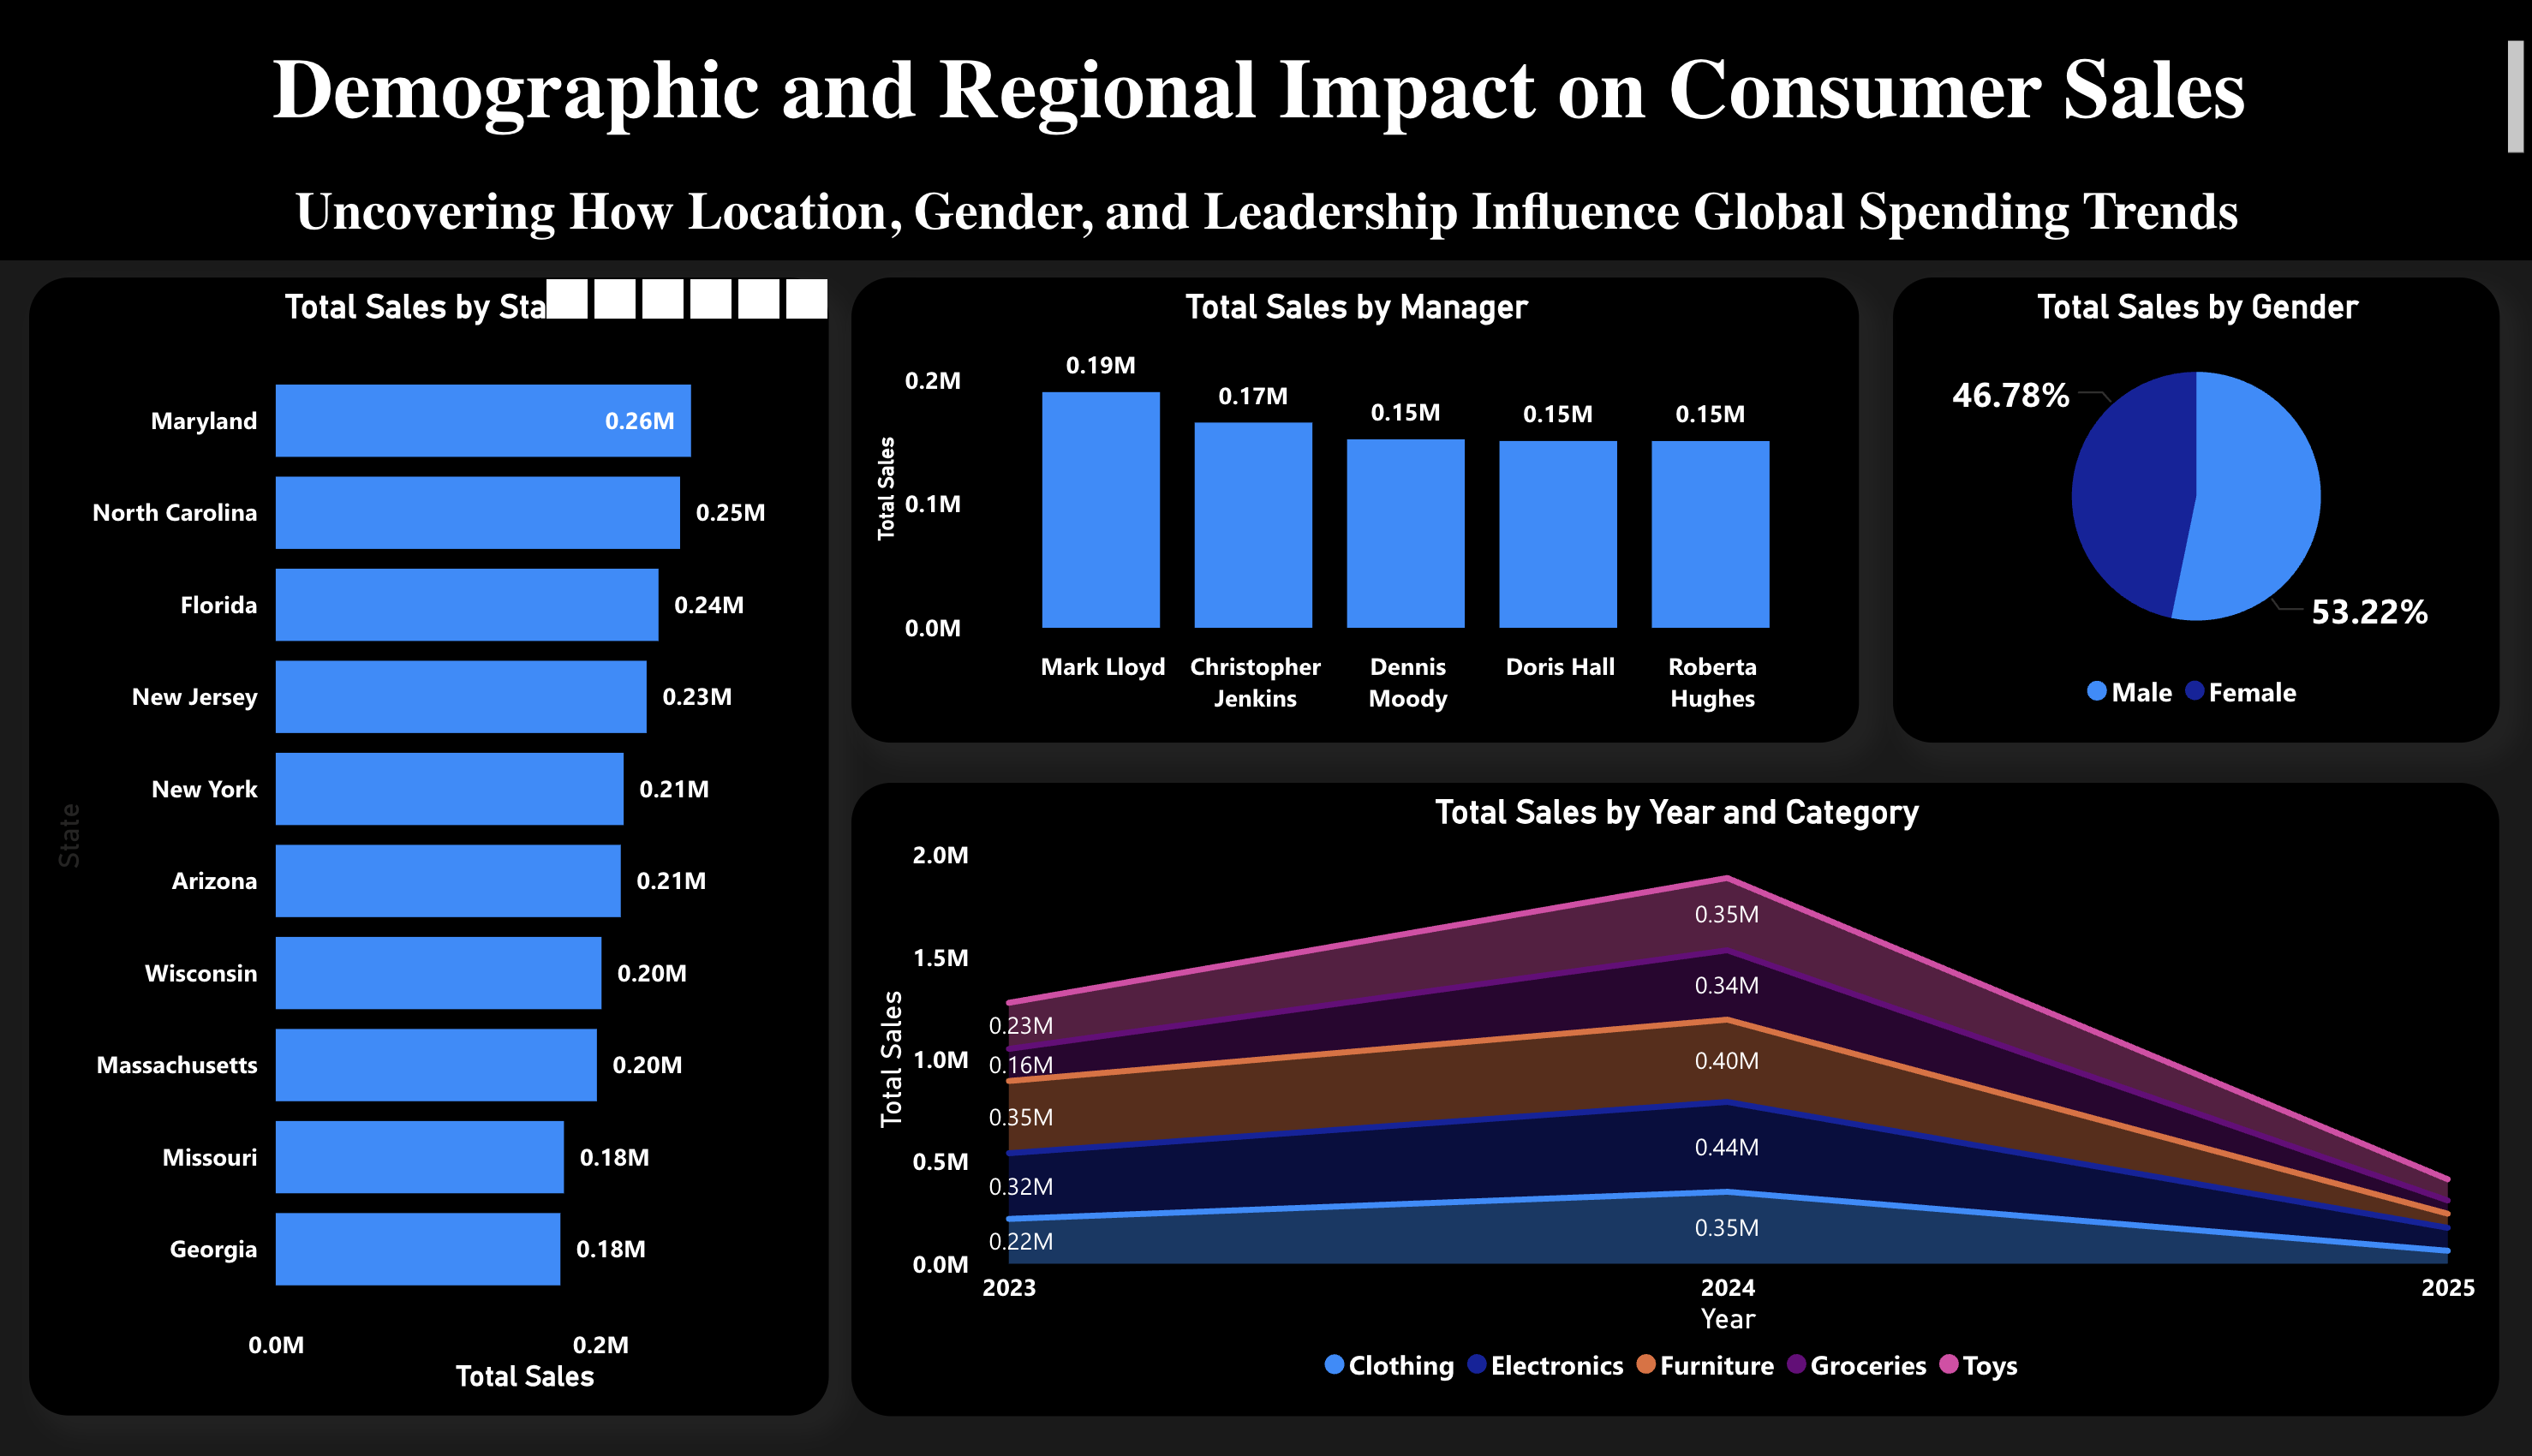

The page's visual inventory and layout, read from the dashboard file:
{"tool":"powerbi","page":{"name":"Demographic and Regional Impact","canvas":[1280,720],"ordinal":2},"visuals":[{"type":"barChart","fields":{"Category":["Customers (2).State"],"Y":["Sales (2).Total Sales"]},"box":[15,125,403.8,575],"z":0},{"type":"pieChart","fields":{"Category":["Customers (2).Gender"],"Y":["Sales (2).Total Sales"]},"box":[956.2,125,306.2,235],"z":1000},{"type":"columnChart","fields":{"Category":["Stores (2).Manager"],"Y":["Sales (2).Total Sales"]},"box":[430,125,508.8,235],"z":2000},{"type":"stackedAreaChart","fields":{"Y":["Sales (2).Total Sales"],"Category":["Sales (2).Salesdate.Variation.Date Hierarchy.Year"],"Series":["Products (2).Category"]},"box":[430,380,832.5,320],"z":3000},{"type":"textbox","box":[0,0,1280,71.2],"z":4000},{"type":"textbox","box":[0,71.2,1280,45],"z":5000}]}

Visuals, with their boxes in screenshot pixels (x1, y1, x2, y2), scaled from the page's 1280x720 canvas onto the 2532x1456 screenshot:
barChart - Customers (2).State x Sales (2).Total Sales: {"left": 30, "top": 253, "right": 828, "bottom": 1416}
pieChart - Customers (2).Gender x Sales (2).Total Sales: {"left": 1891, "top": 253, "right": 2497, "bottom": 728}
columnChart - Stores (2).Manager x Sales (2).Total Sales: {"left": 851, "top": 253, "right": 1857, "bottom": 728}
stackedAreaChart - Sales (2).Total Sales x Sales (2).Salesdate.Variation.Date Hierarchy.Year: {"left": 851, "top": 768, "right": 2498, "bottom": 1416}
textbox: {"left": 0, "top": 0, "right": 2531, "bottom": 144}
textbox: {"left": 0, "top": 144, "right": 2531, "bottom": 235}
